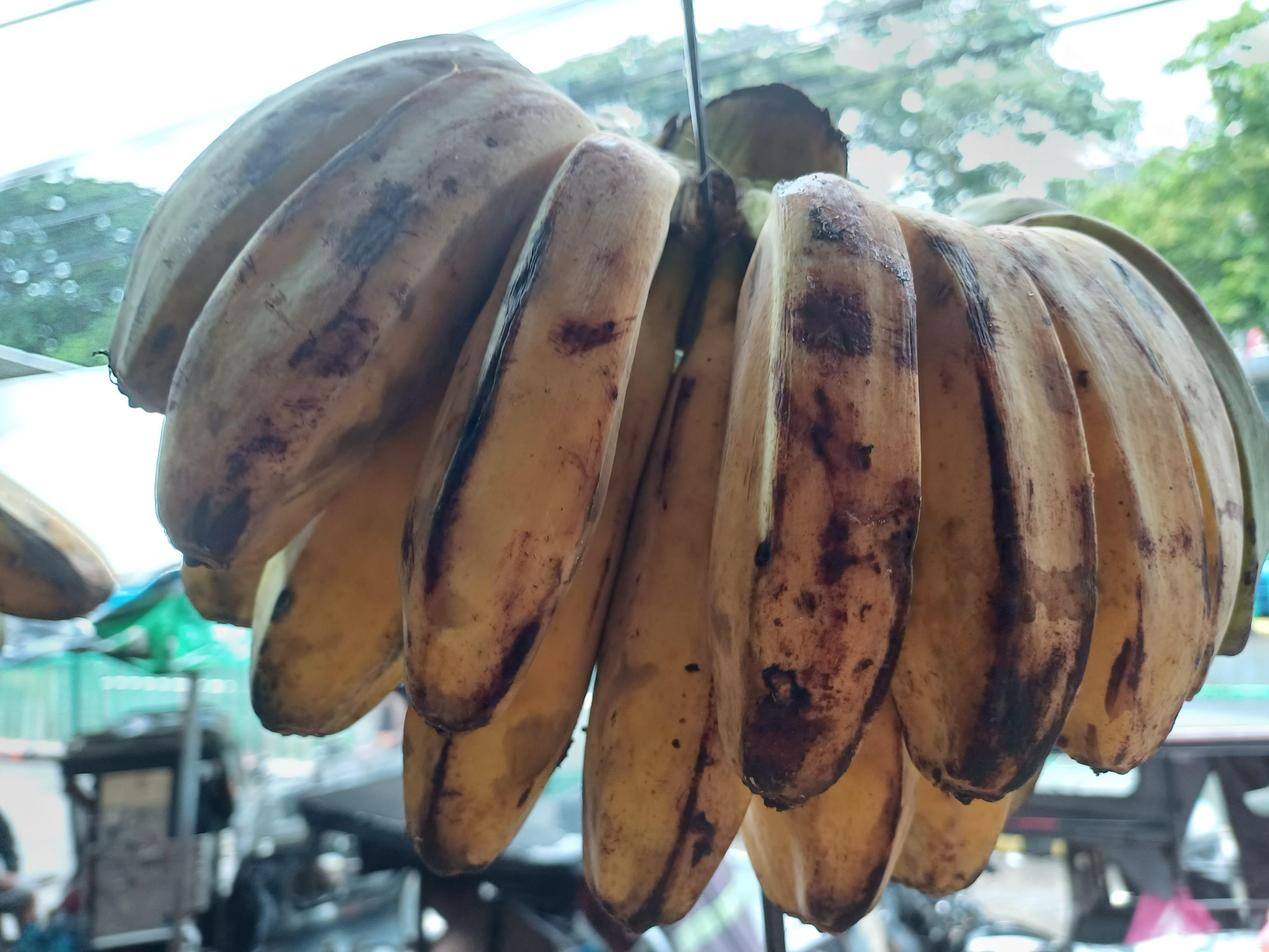ripe: (106, 35, 1269, 936)
